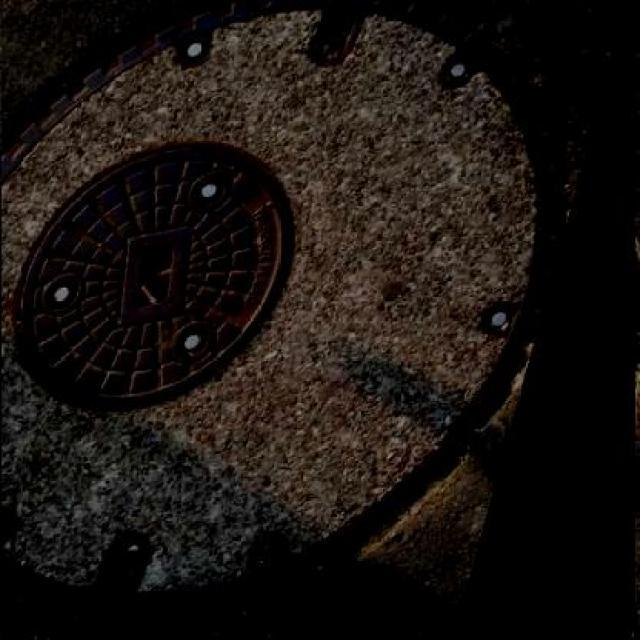Manhole: (2, 1, 636, 632)
